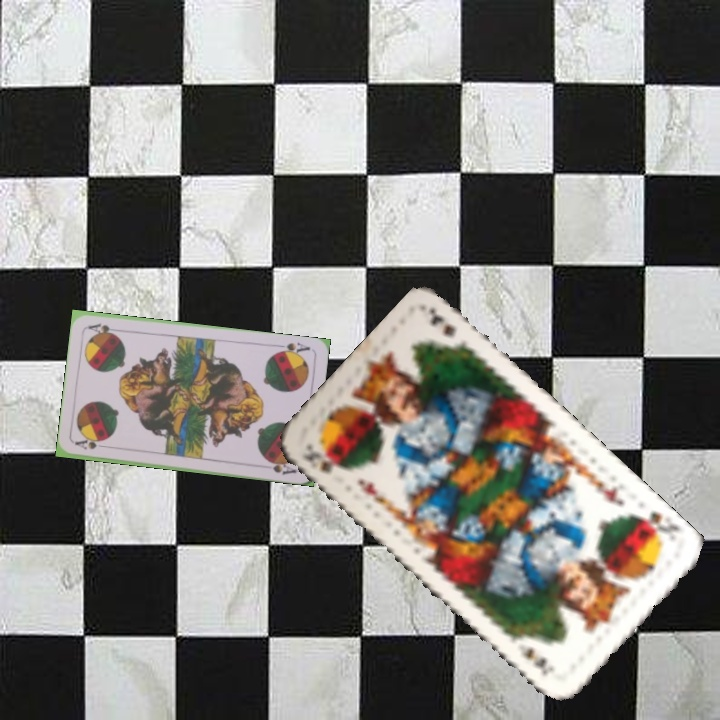SA: (272, 338, 312, 359), (71, 435, 112, 452)
SK: (297, 440, 346, 476), (631, 507, 681, 539)
